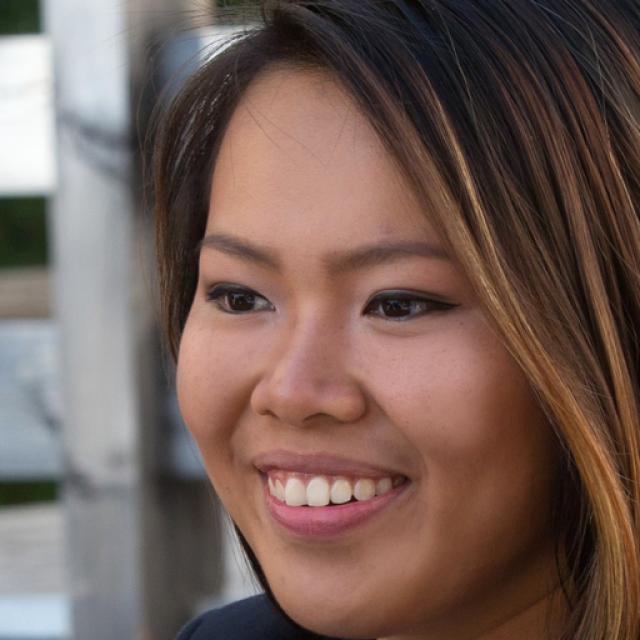0_rostro_limpio: (171, 0, 640, 639)
